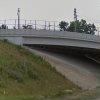Bridge: (5, 12, 98, 60)
